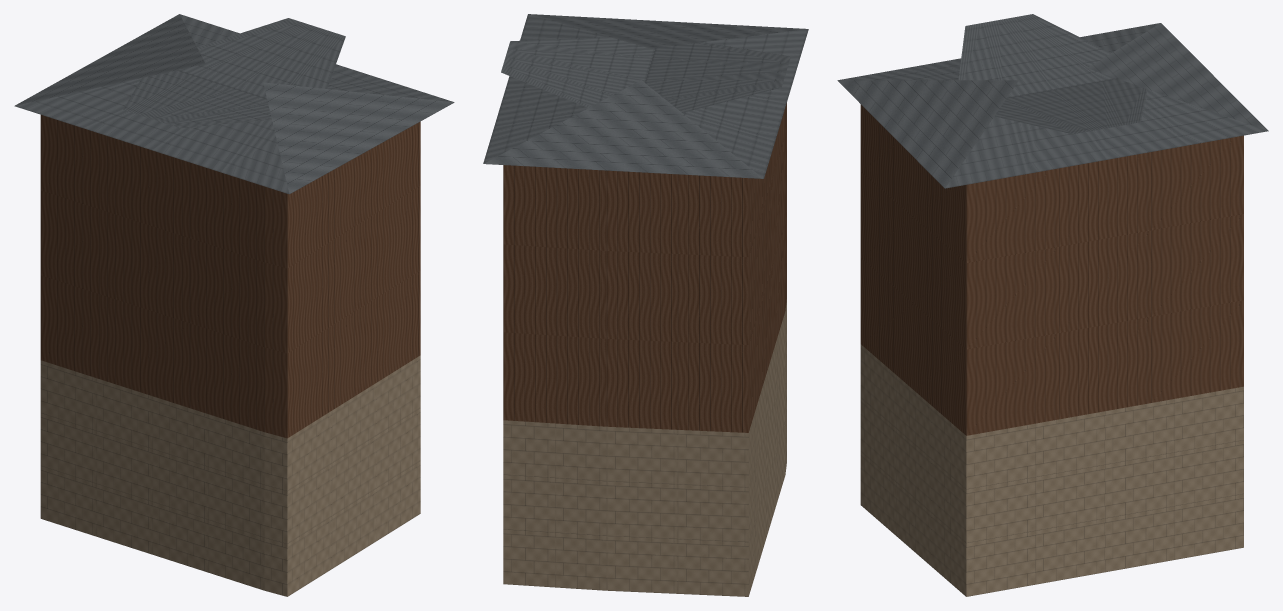
The model's file is bld_c44_-38_419.gltf.
3 renders of one model, left to right at view 1: azimuth 30°, elevation 25°; view 2: azimuth 150°, elevation 25°; view 3: azimuth 270°, elevation 25°, orthographic. The views are drawn at different scales.
Parts seen in each view (by area): view 1: bld_c44_-38_419; view 2: bld_c44_-38_419; view 3: bld_c44_-38_419.
Part boxes in pixels (x1,y1,x2,y2): bld_c44_-38_419: [14, 14, 454, 596]; bld_c44_-38_419: [483, 14, 808, 596]; bld_c44_-38_419: [837, 14, 1268, 596].
Bounding box in the file's own units: 11.26 × 14.3 × 12.39.
Materials: 3 (3 with a texture image).
